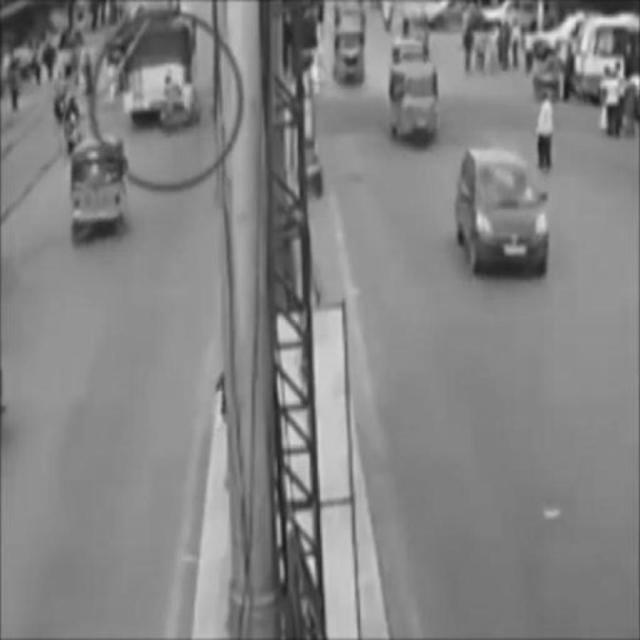accident: (109, 19, 202, 127)
person: (537, 87, 552, 170)
vehicle: (457, 142, 550, 282), (65, 132, 131, 246), (391, 67, 442, 150)
